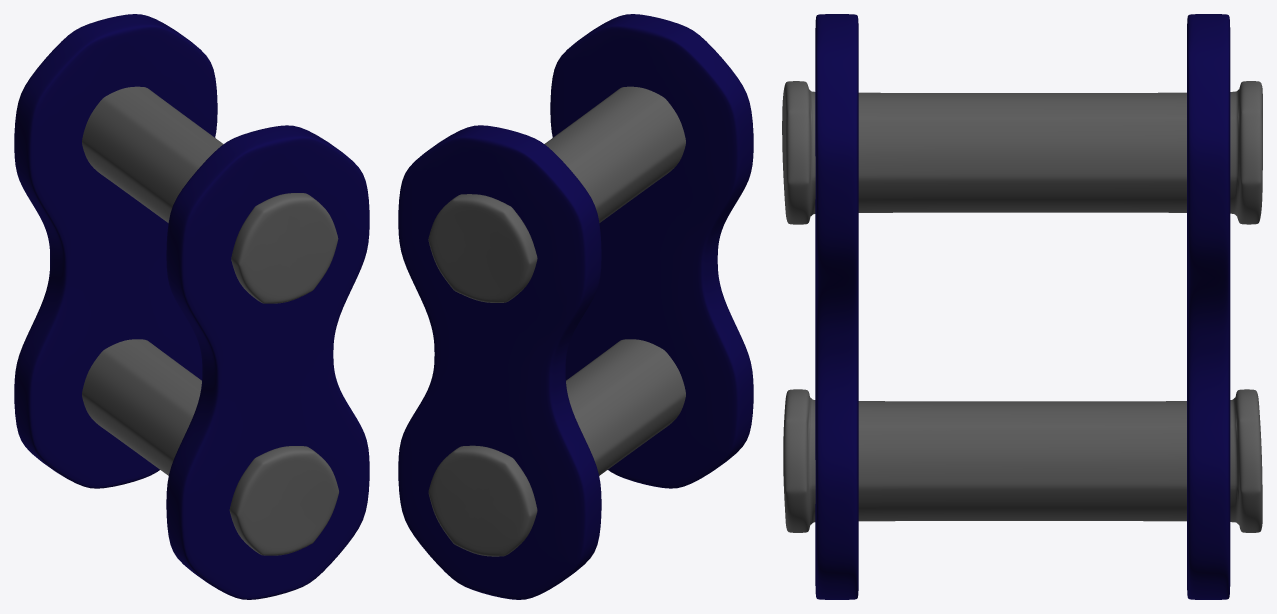
The model's file is CHAIN_LINK_OUT.fbx.
3 views of the same model, side by side, from view 1: azimuth 30°, elevation 25°; view 2: azimuth 150°, elevation 25°; view 3: azimuth 270°, elevation 25° (orthographic). The views are drawn at different scales.
Parts seen in each view (by area): view 1: LINK OUT.002; view 2: LINK OUT.002; view 3: LINK OUT.002.
Boxes of the visible parts, x1,y1,x2,y2 form: LINK OUT.002: (14,14,369,599); LINK OUT.002: (398,14,753,599); LINK OUT.002: (782,14,1262,599).
Size of the model in its own units: 77.25 by 177 by 138.
